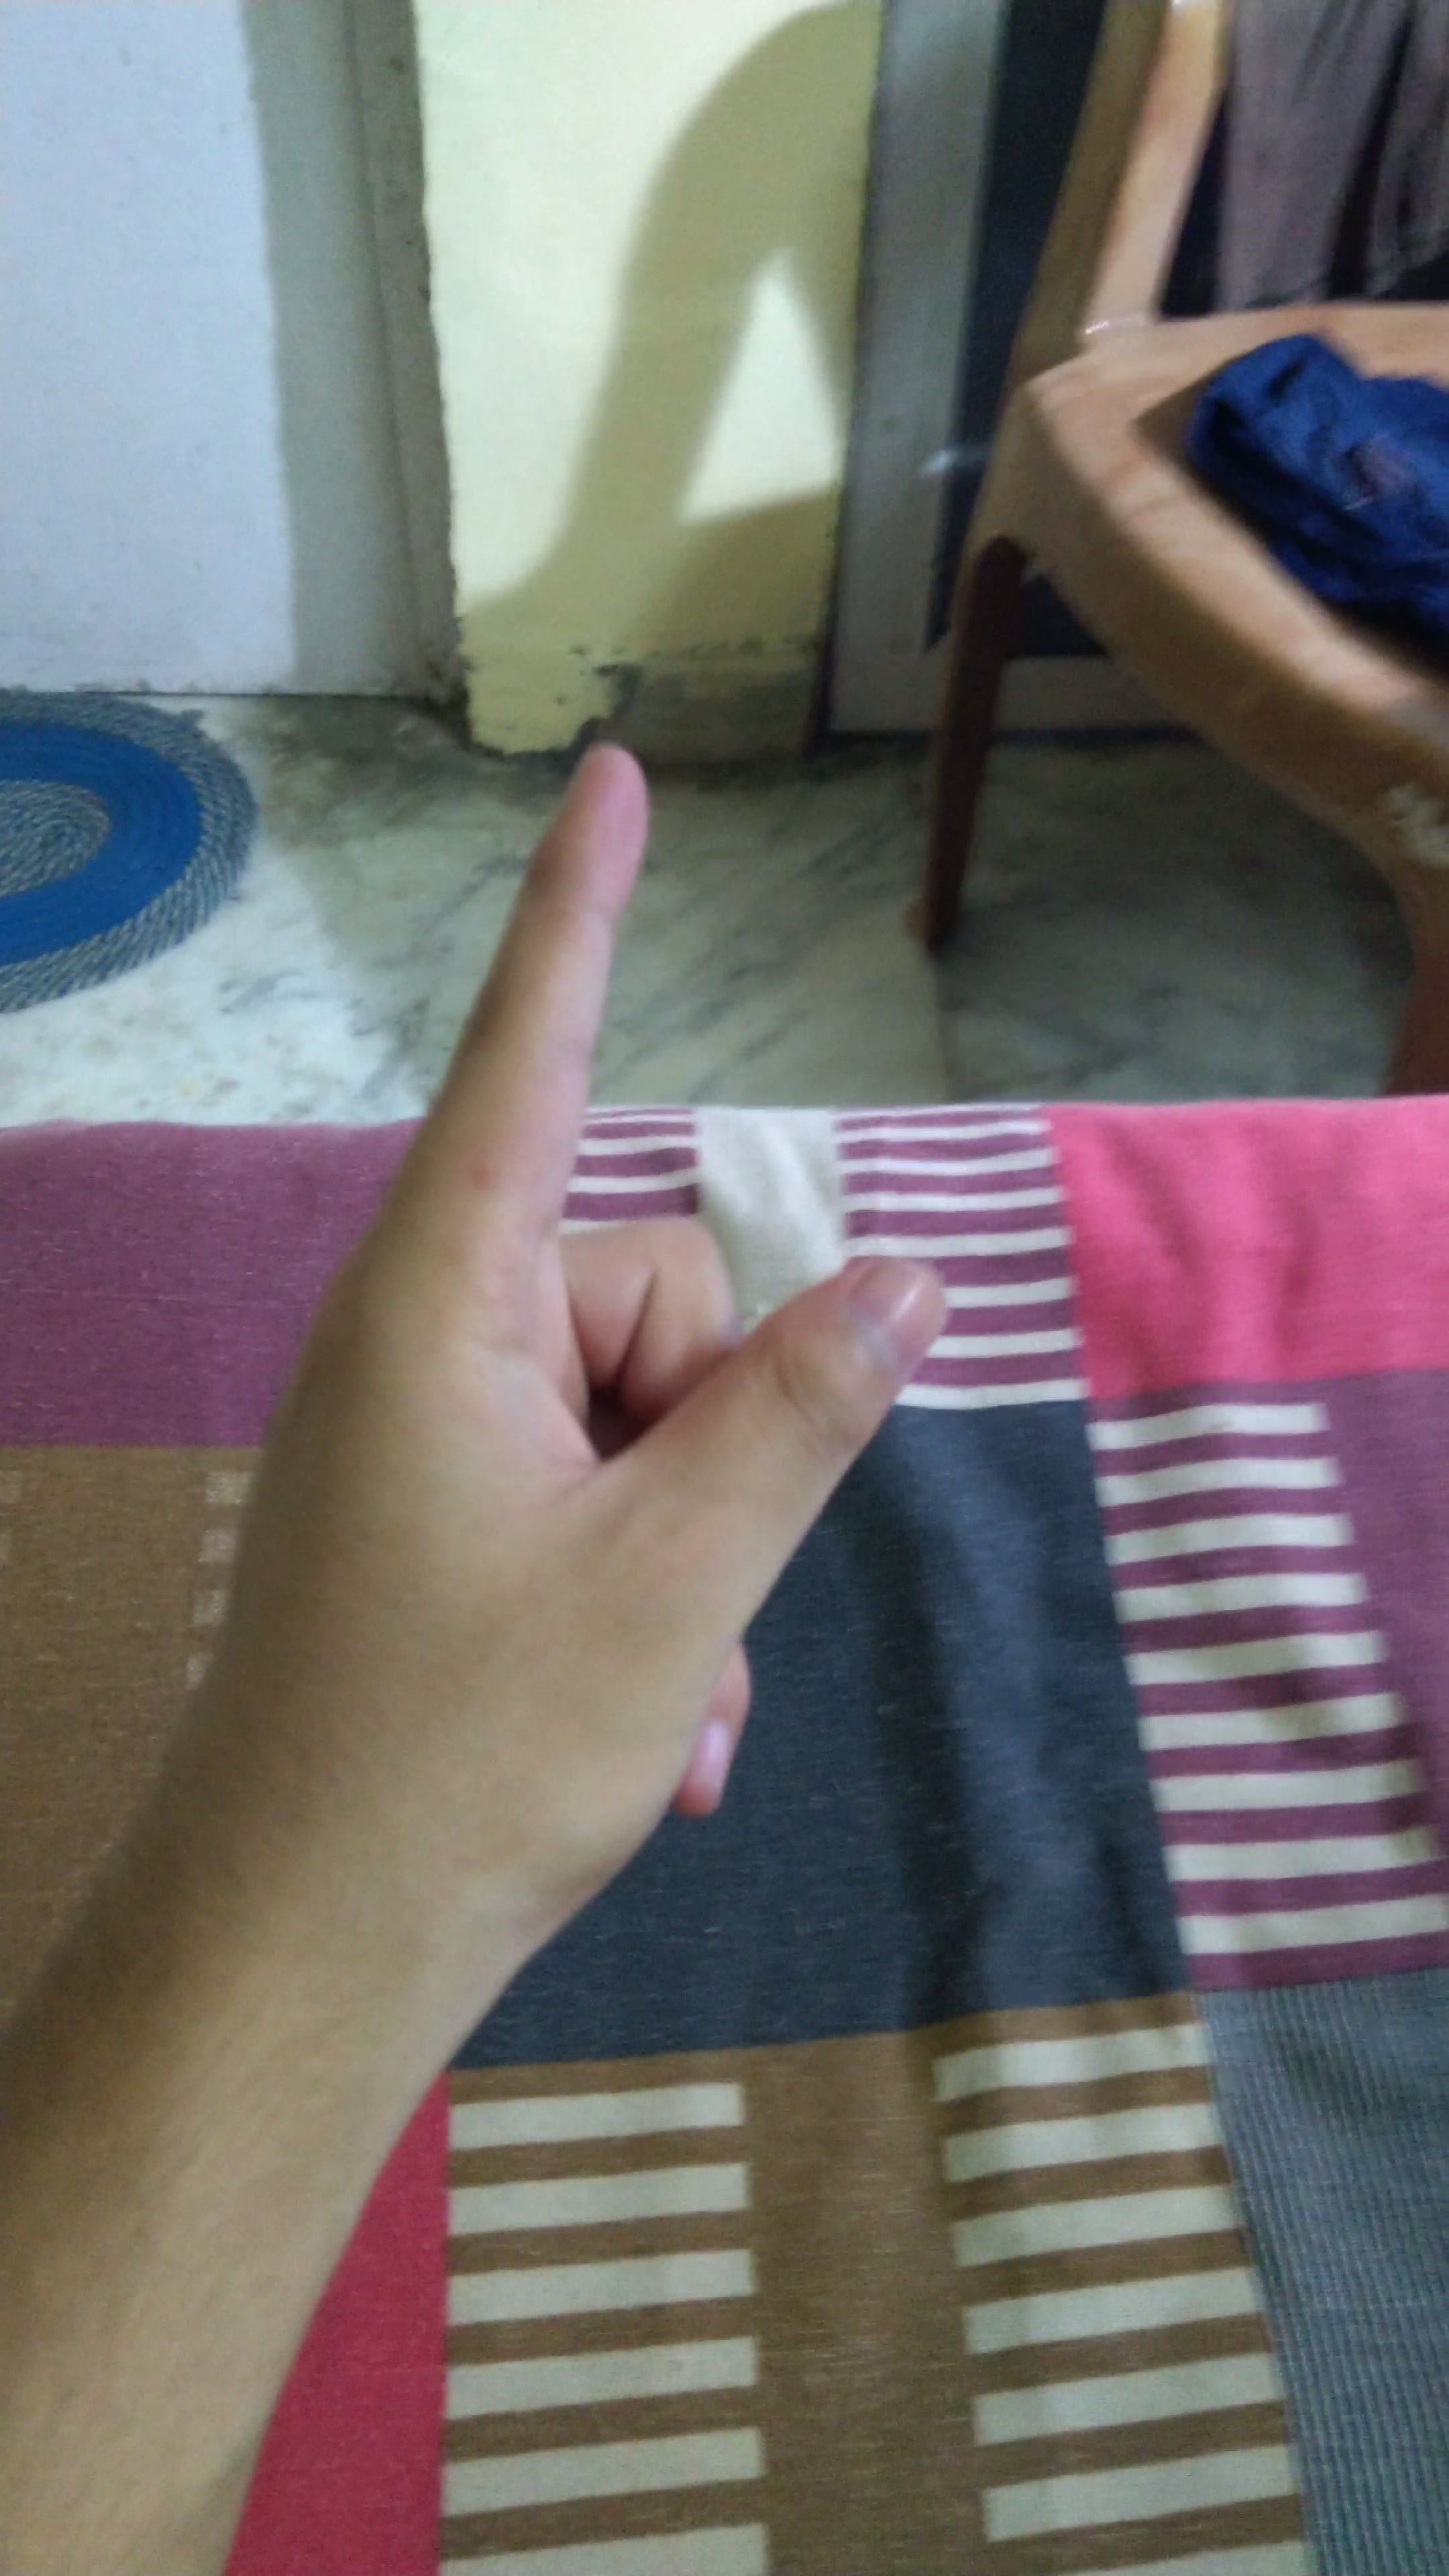hand: (104, 715, 1111, 2063)
